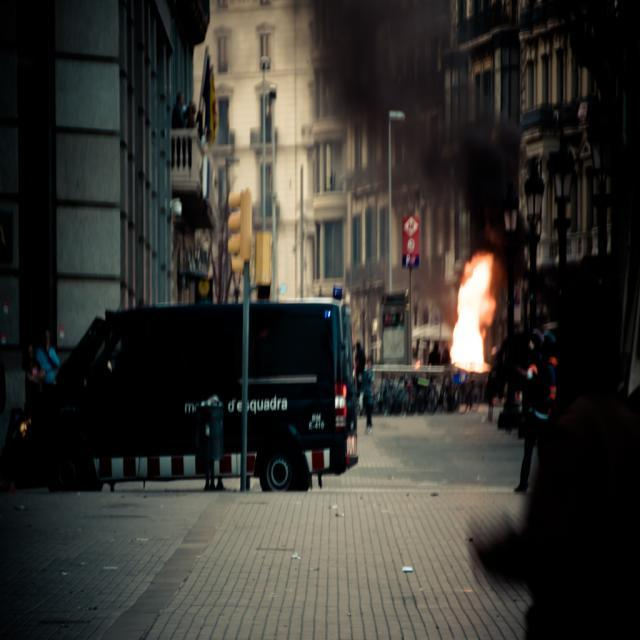Fire: (444, 248, 502, 380)
Smoke: (293, 0, 531, 251)
